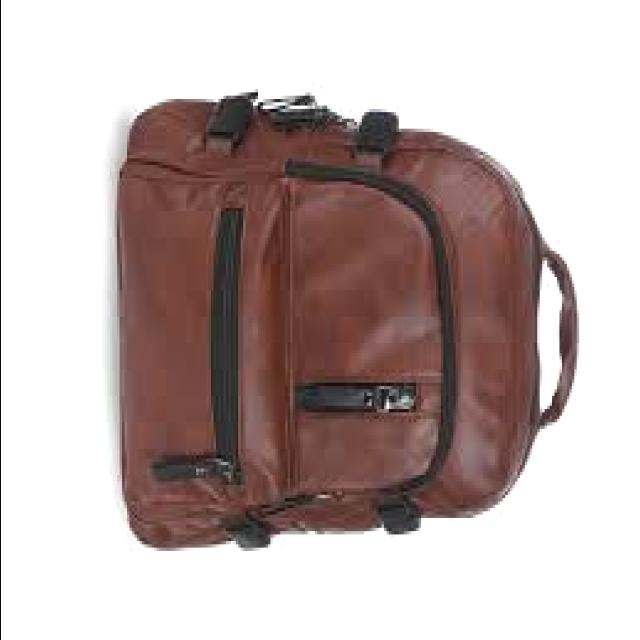backpack: (120, 90, 582, 552)
